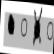correct: (6, 12, 15, 38)
not correct: (31, 6, 44, 48)
